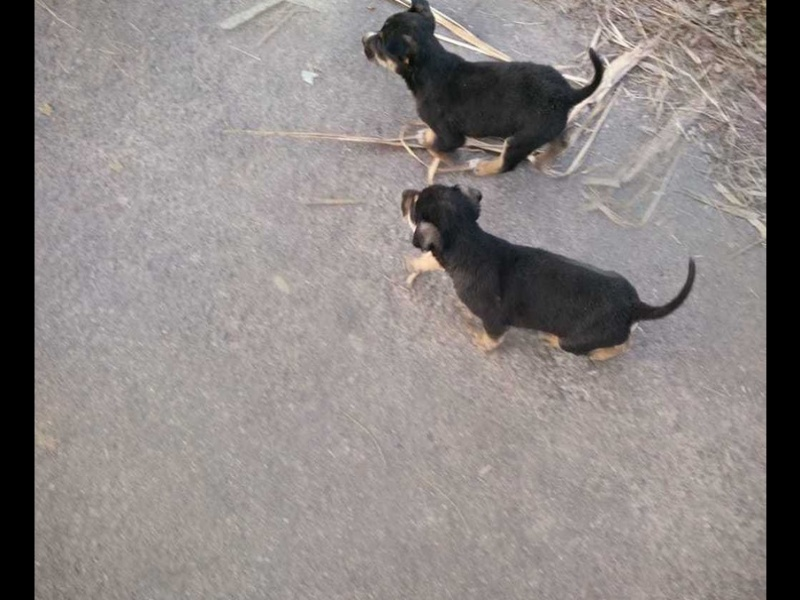dog: (394, 186, 699, 367), (349, 4, 611, 182)
